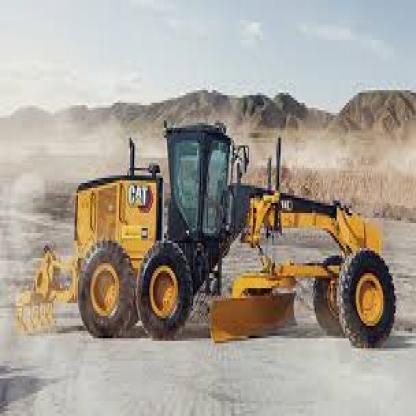bull_dozer/loader/grader: (0, 78, 415, 363)
